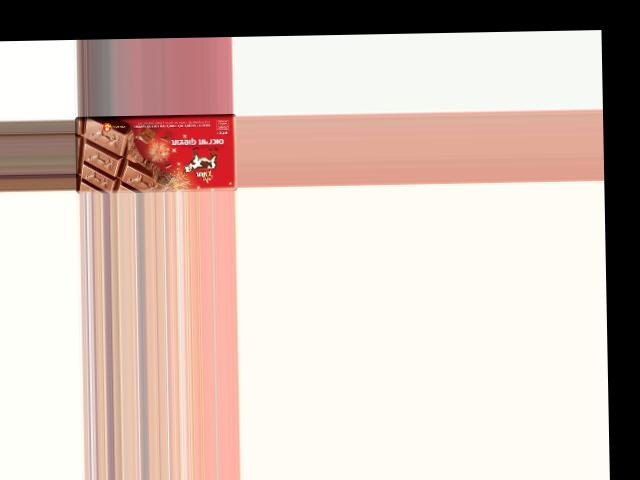chocolate: (75, 114, 238, 193)
